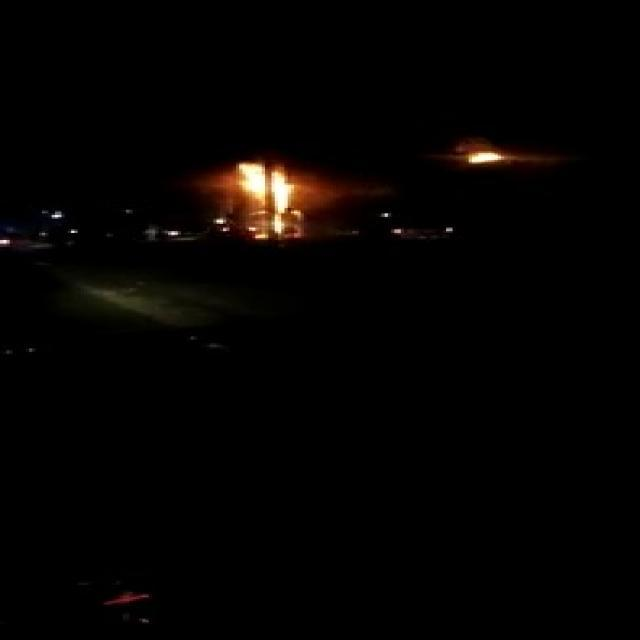Fire: (214, 160, 304, 242), (466, 138, 508, 164)
